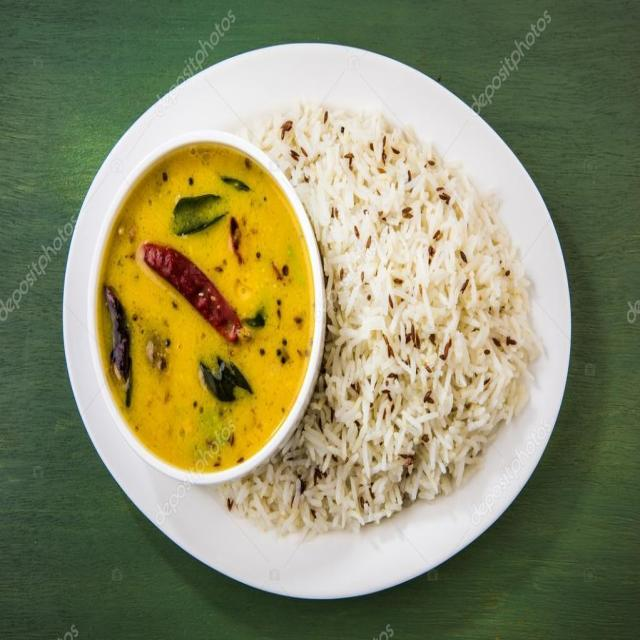dal: (99, 143, 316, 473)
rice: (324, 99, 534, 532)
